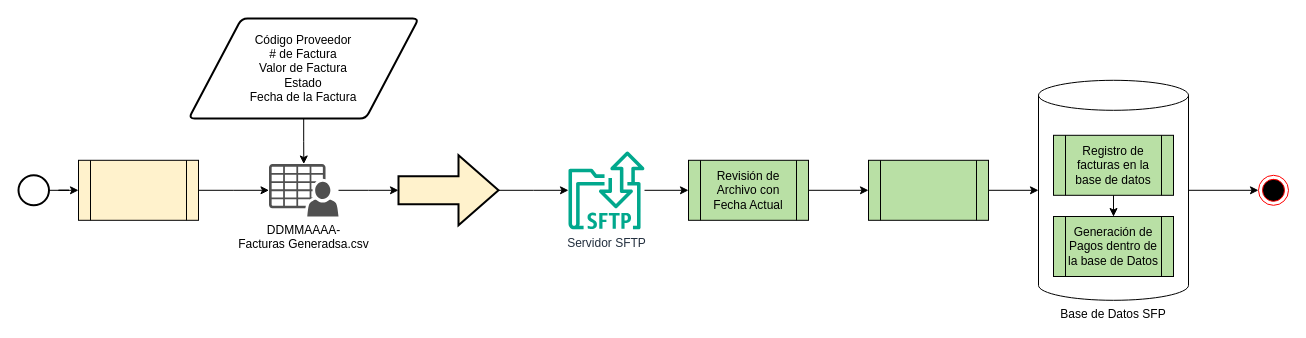
Some shapes in this 1306 by 338 pixel diagram are drawn without their labels. Here are the shapes that lost their labels. From the top down, the centre of each, then its label:
At (138,189): "Generación de archivo de facturas generadas".
At (448,190): "Transferencia SFTP Carpeta /Facturas".
At (928,189): "Validación de Facturas".
